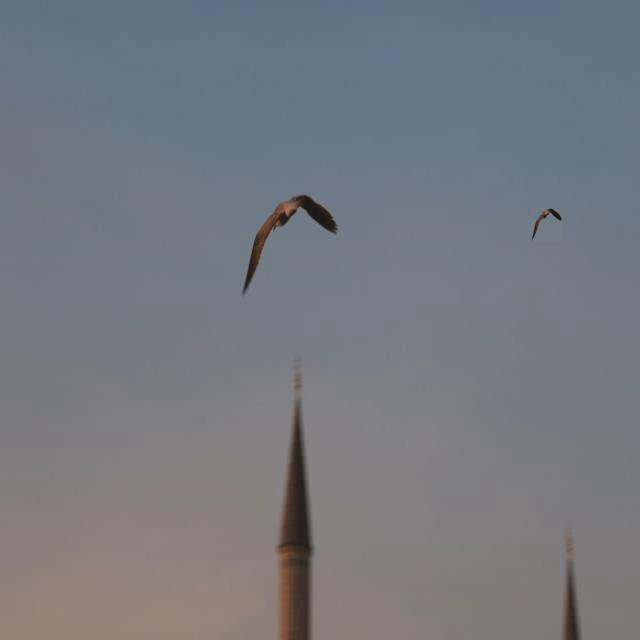bird: (241, 193, 340, 294), (530, 208, 564, 242)
